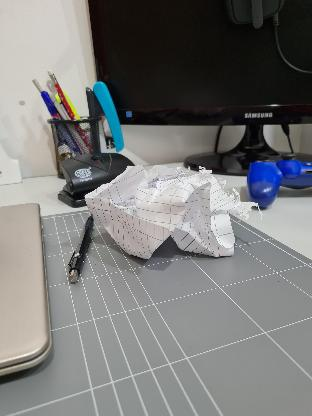Paper: (85, 169, 251, 258)
